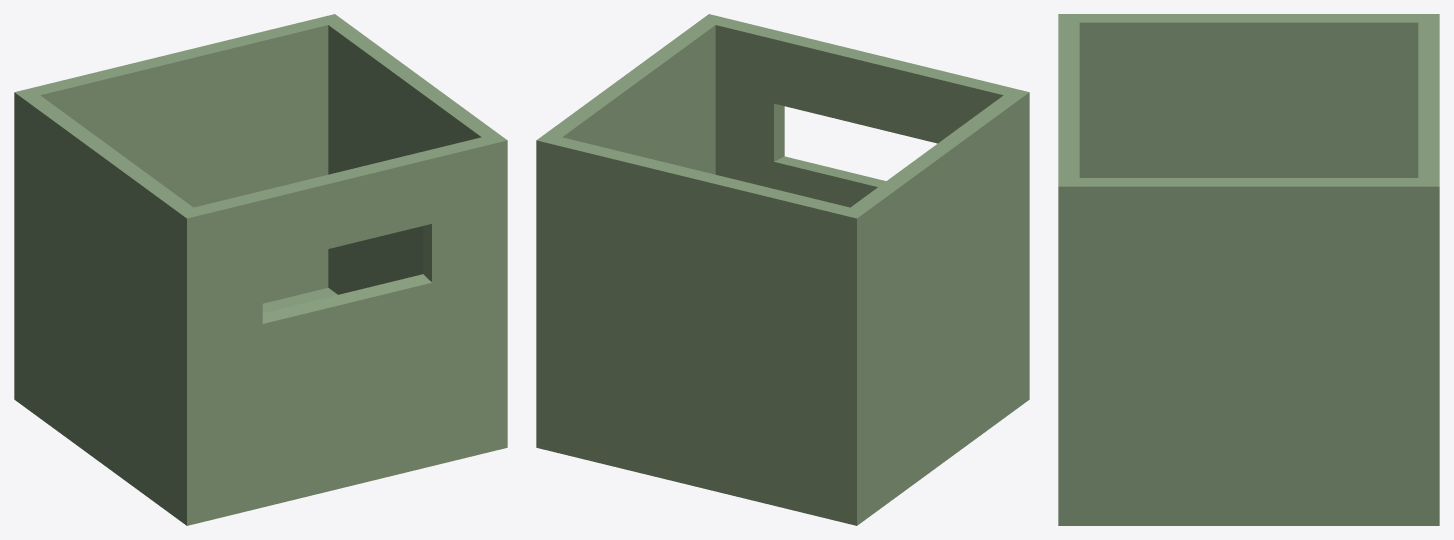
File: Box_Organizer_Small.fbx
3 views of the same model, side by side, from view 1: azimuth 30°, elevation 25°; view 2: azimuth 150°, elevation 25°; view 3: azimuth 270°, elevation 25° (orthographic). The views are drawn at different scales.
Parts seen in each view (by area): view 1: Box_Organizer_Small; view 2: Box_Organizer_Small; view 3: Box_Organizer_Small.
Part boxes in pixels (left/top/right/bottom): Box_Organizer_Small: left=14, top=14, right=507, bottom=525; Box_Organizer_Small: left=536, top=14, right=1029, bottom=525; Box_Organizer_Small: left=1058, top=14, right=1439, bottom=525.
Size of the model in its own units: 33.09 by 30.32 by 30.86.
